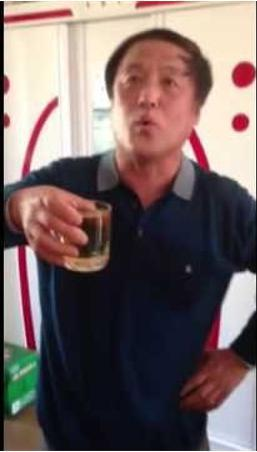Drunk: (114, 45, 194, 153)
